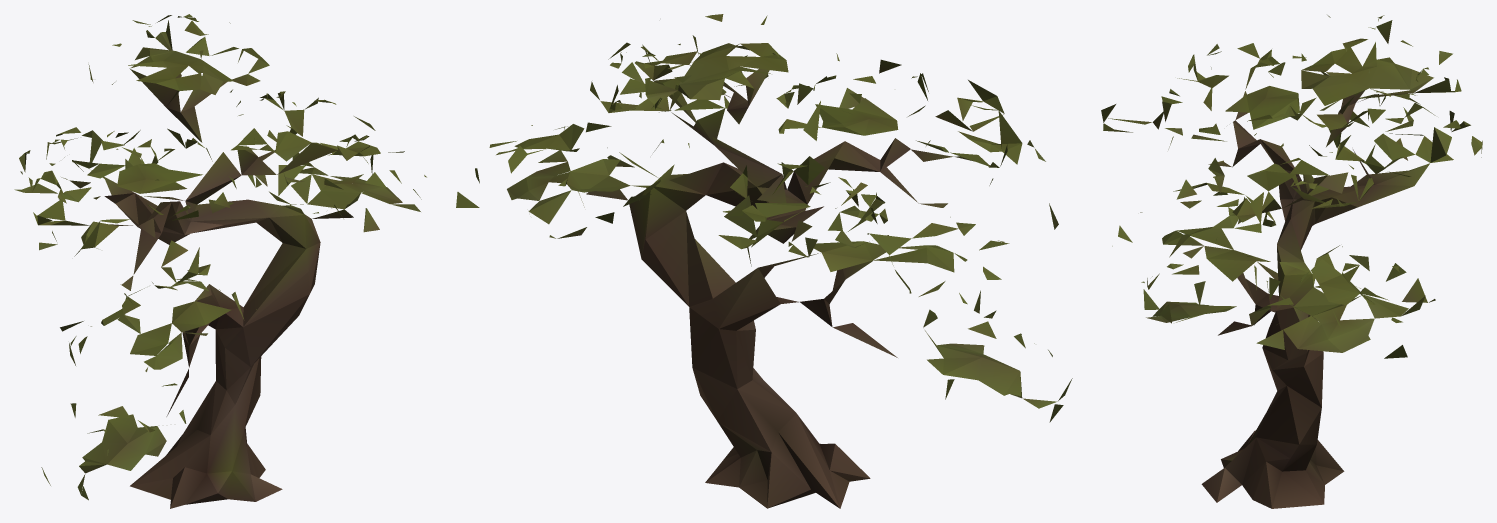
File: lib_bonsai.vc2.glb
The picture shows the model from 3 angles, left to right: view 1: azimuth 30°, elevation 25°; view 2: azimuth 150°, elevation 25°; view 3: azimuth 270°, elevation 25°; orthographic projection. The views are drawn at different scales.
Parts seen in each view (by area): view 1: lib_bonsai; view 2: lib_bonsai; view 3: lib_bonsai.
Part boxes in pixels (x1,y1,x2,y2): lib_bonsai: (14,14,426,508); lib_bonsai: (456,14,1072,508); lib_bonsai: (1101,15,1482,508).
Bounding box in the file's own units: 1.88 × 1.78 × 1.35.
